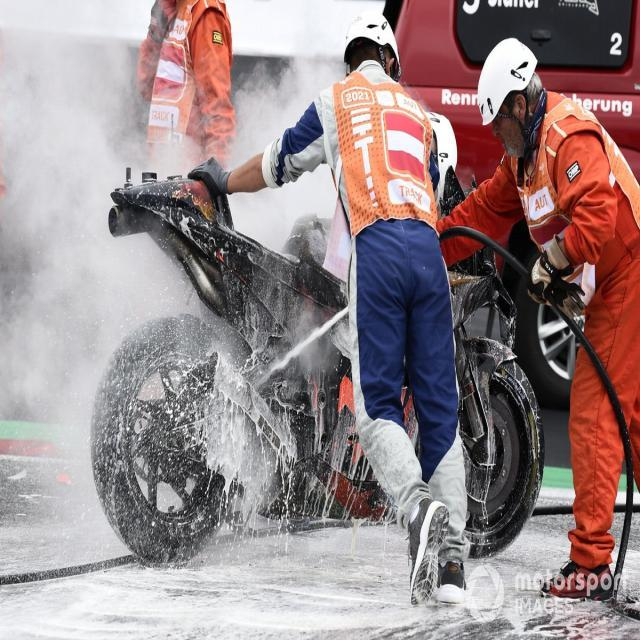Smoke: (0, 0, 373, 538)
